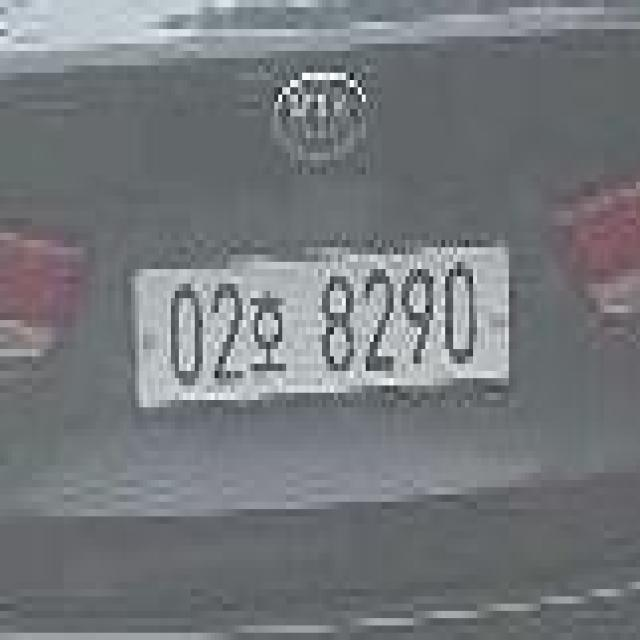illegal_plate: (130, 241, 514, 417)
